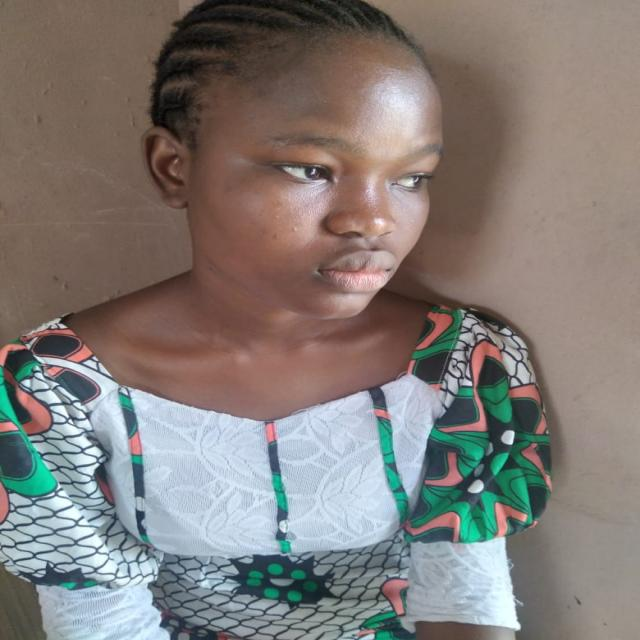sad: (150, 8, 451, 329)
